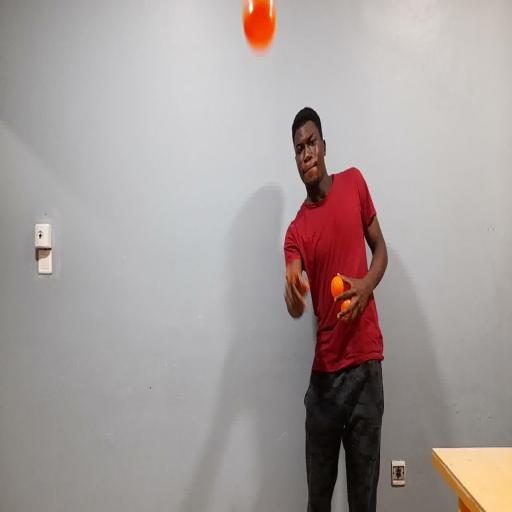plastic-ball: (232, 0, 286, 58)
